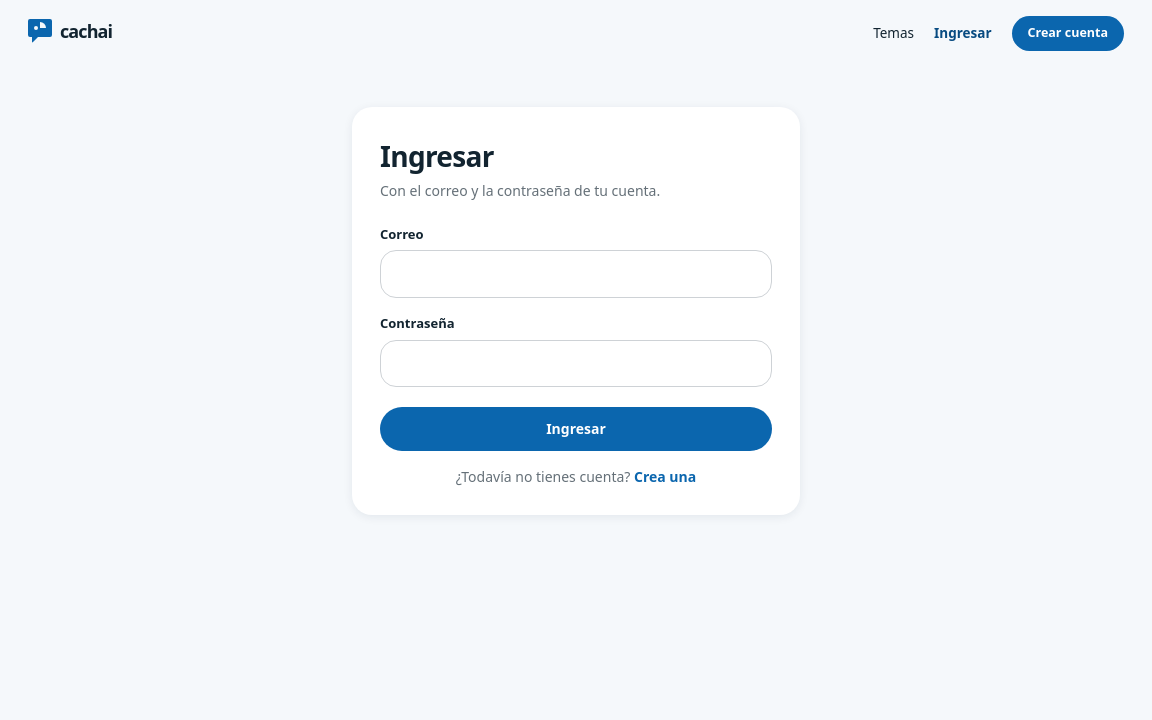
sesion y rutas privadas › iniciar sesion guarda el token y lleva a la pagina que se pidio
Type "ana@duoc.cl" into the field labelled "Correo" at (576, 274), box [380,250,772,298]
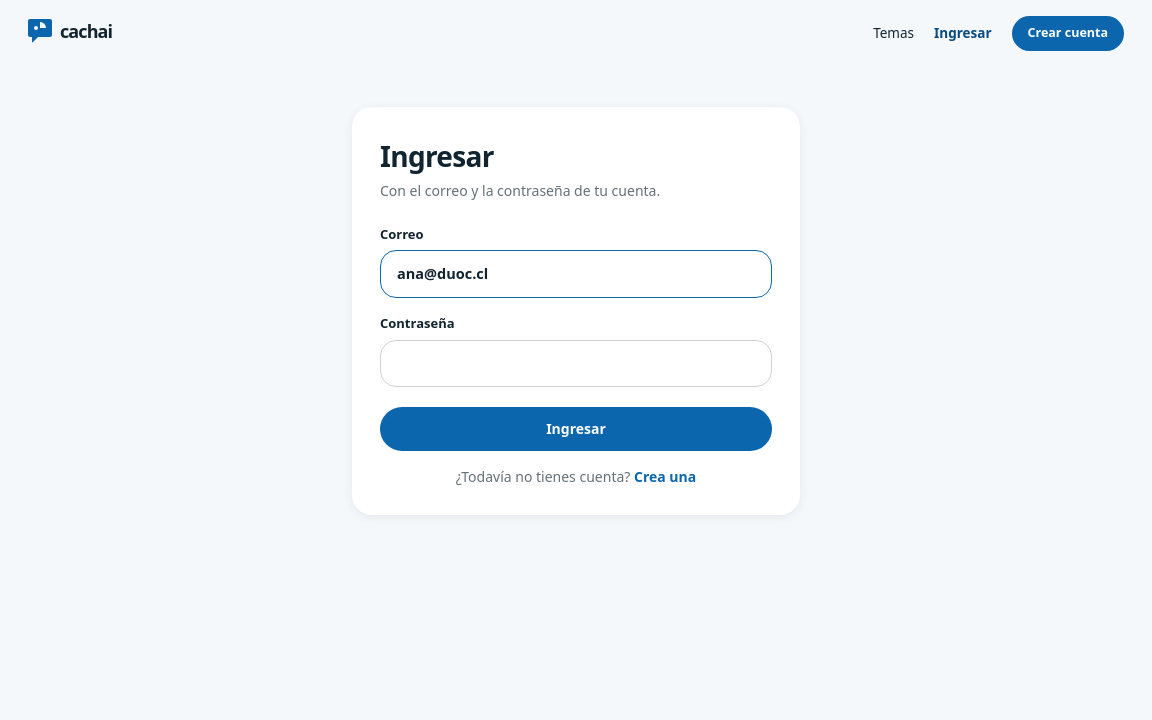
Type "clave12345" into the password field labelled "Contraseña" at (576, 363), box [380,340,772,387]
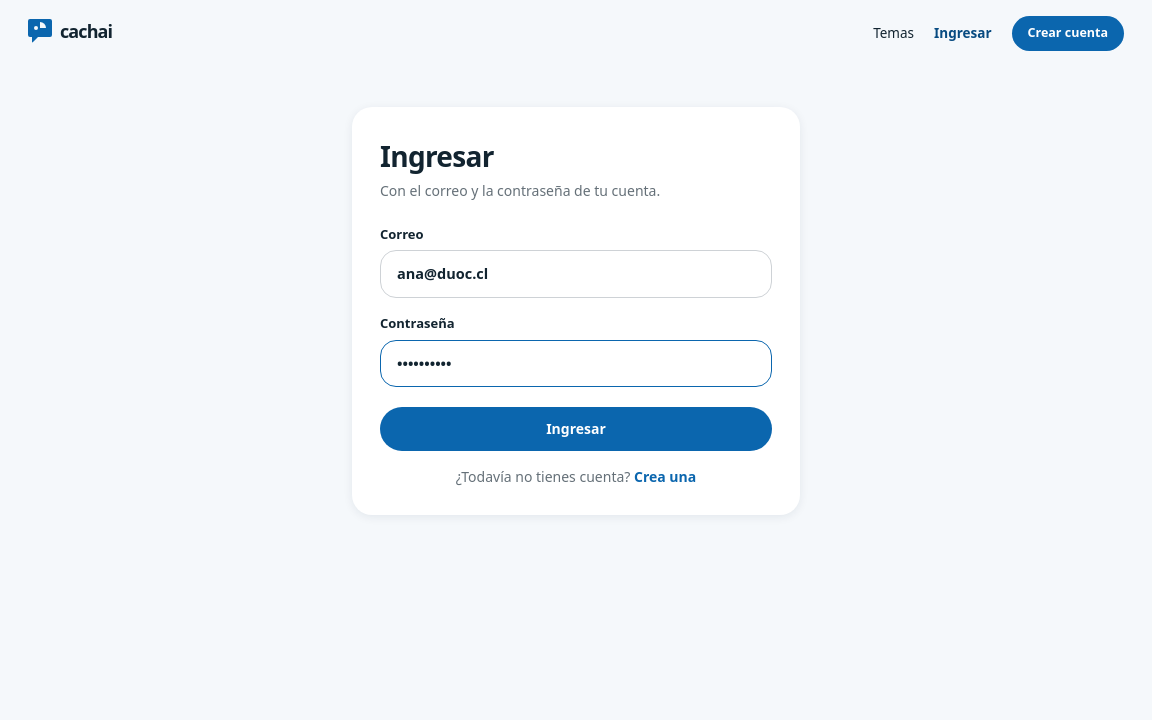
Click the button "Ingresar" at (576, 429), box [380,407,772,451]
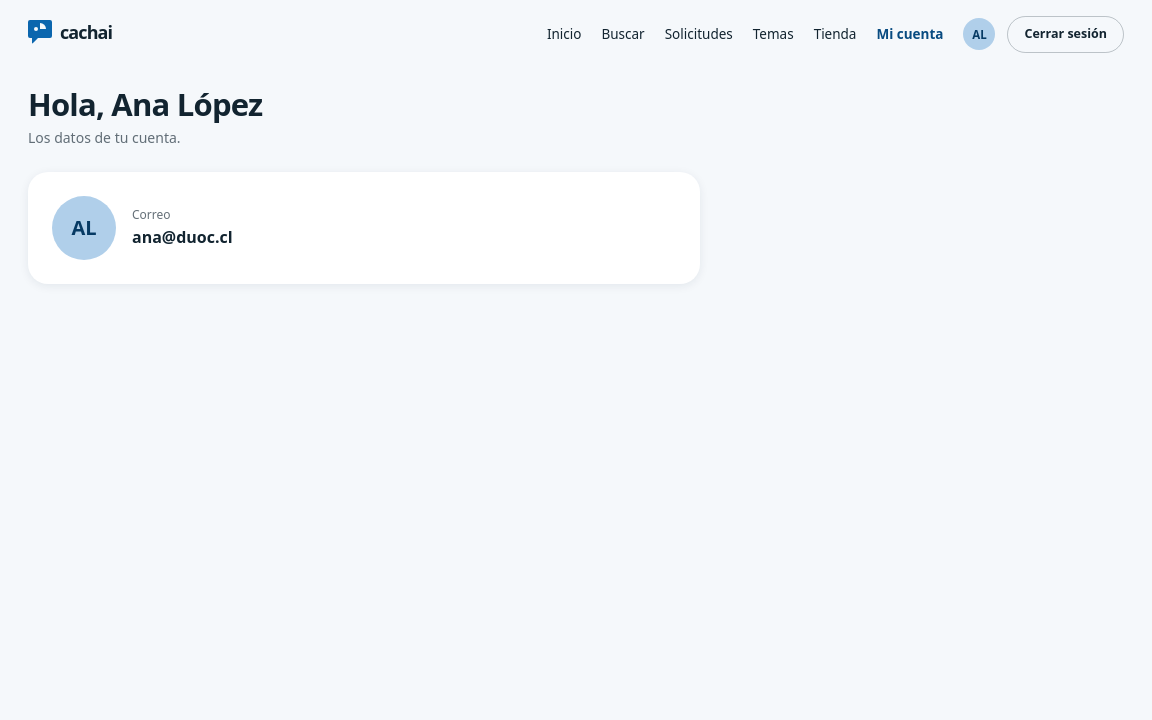
Expected: the heading "Hola, Ana López" is shown, [28,83,262,125]
